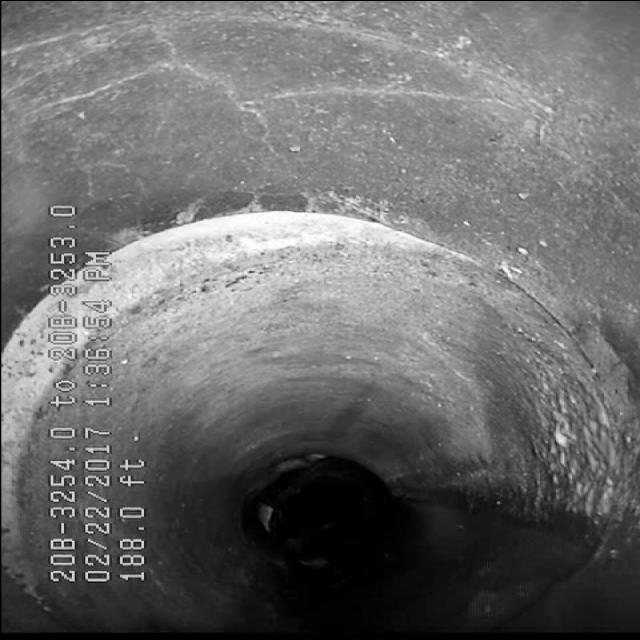Crack: (136, 38, 316, 176)
